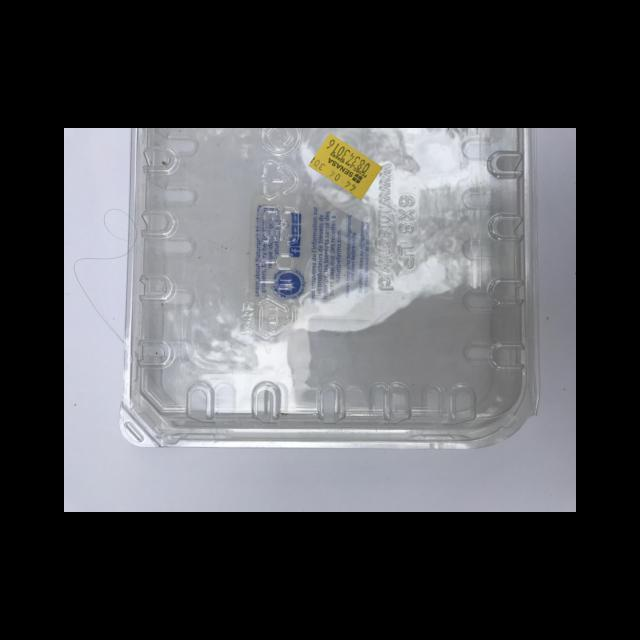plastic: (118, 128, 541, 449)
